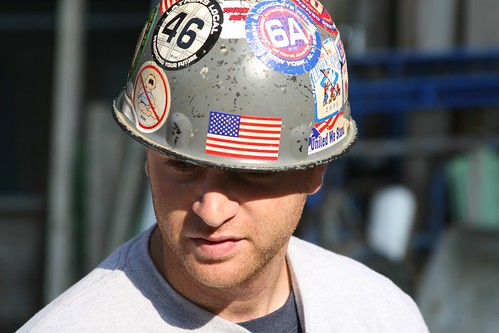person hardhat: (1, 1, 434, 332)
